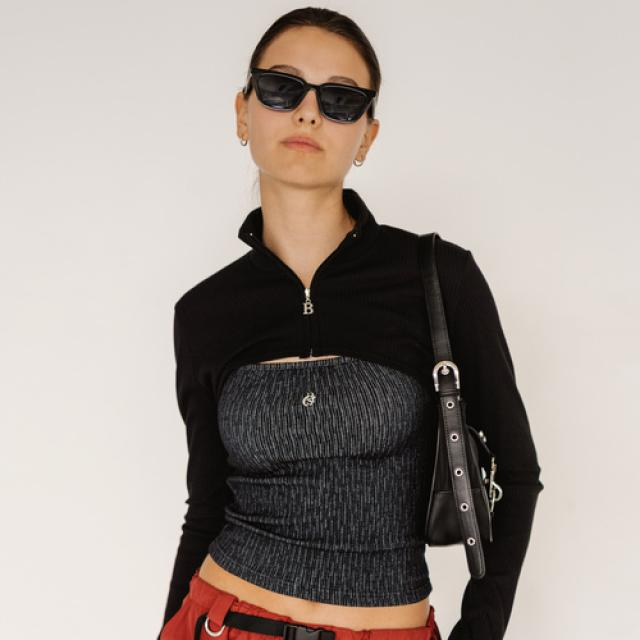dress: (169, 188, 547, 640)
